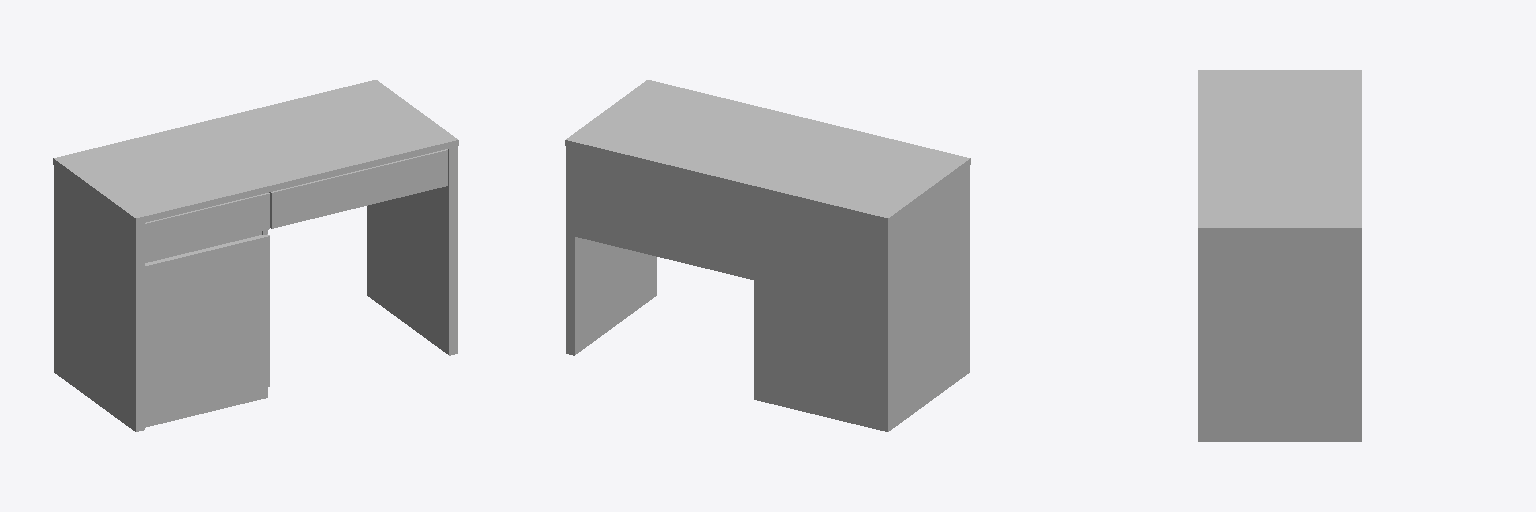
File: VEDDE.obj
3 views of the same model, side by side, from view 1: azimuth 30°, elevation 25°; view 2: azimuth 150°, elevation 25°; view 3: azimuth 270°, elevation 25° (orthographic).
Visible parts, largest first — view 1: Cube.009_Cube.011; view 2: Cube.009_Cube.011; view 3: Cube.009_Cube.011.
Boxes of the visible parts, <box> form: Cube.009_Cube.011: <box>53,80,458,431</box>; Cube.009_Cube.011: <box>565,80,970,431</box>; Cube.009_Cube.011: <box>1198,70,1361,441</box>.
Bounding box in the file's own units: 2.4 × 1.52 × 1.06.